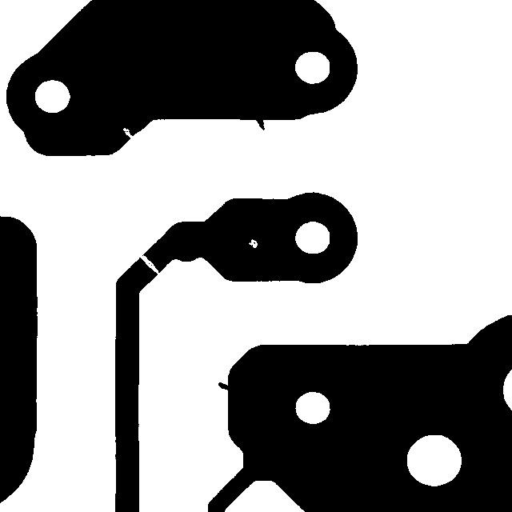mousebite: (115, 120, 142, 146)
open: (130, 246, 174, 289)
pin-hole: (241, 231, 265, 255)
spur: (243, 102, 272, 138), (210, 374, 238, 398)
